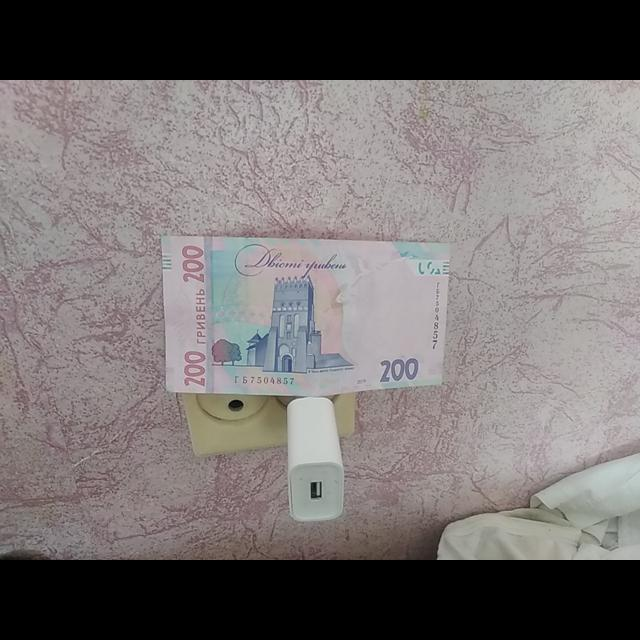200uah: (166, 238, 446, 388)
